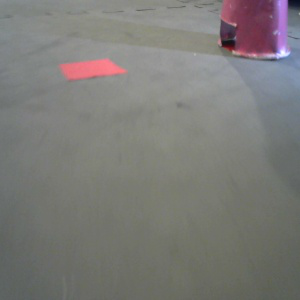right: (216, 1, 290, 59)
